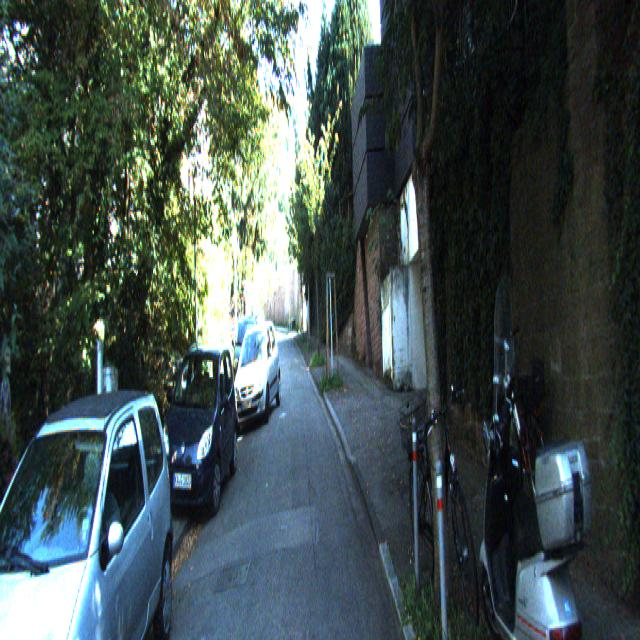Car: (0, 358, 179, 639), (473, 342, 606, 638), (157, 337, 239, 528), (231, 317, 281, 432)
